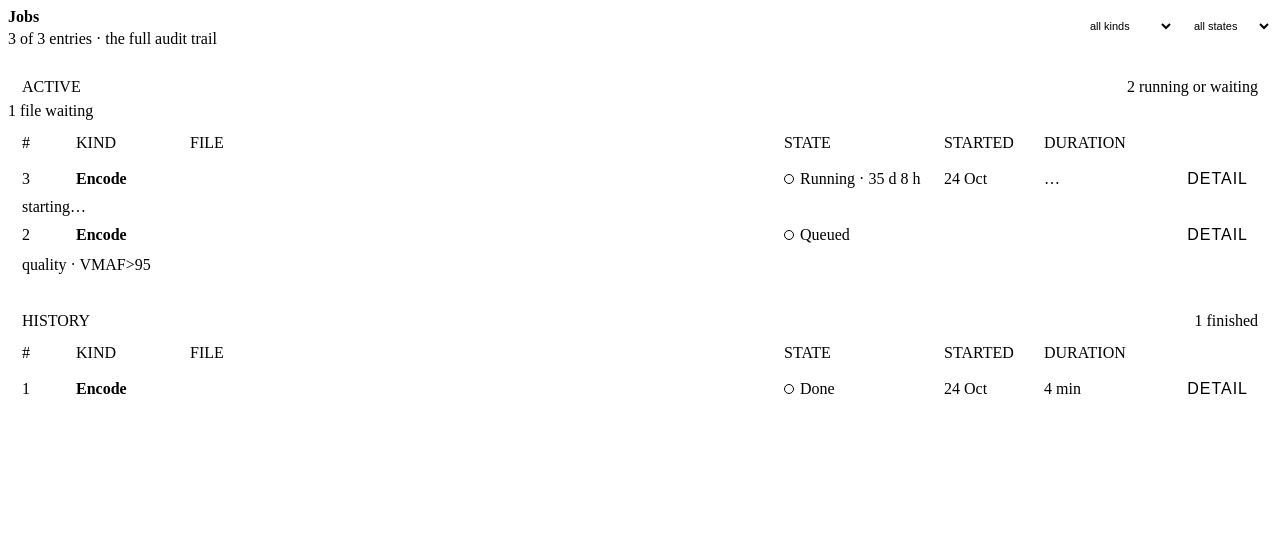
Test case: JobsPage render › a queued job shows no start time; running and done rows keep theirs (issue #603)
Click the button "DETAIL" in the row of "Queued": (1218, 235) [1177, 223, 1258, 247]
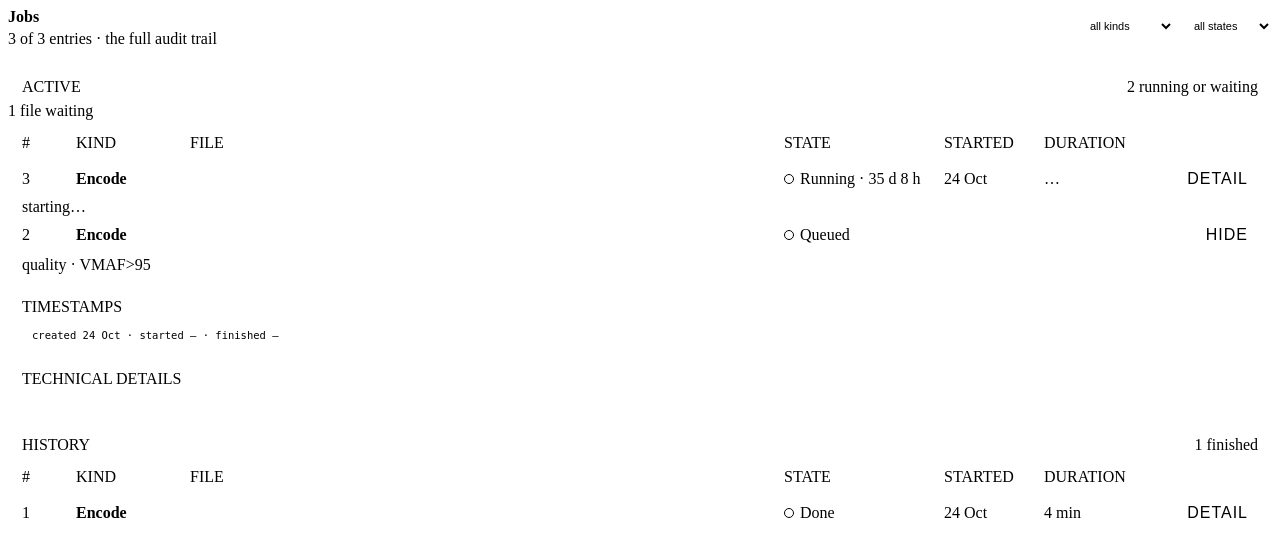
Now the element with class "detail" is shown, box [22, 298, 278, 387]
Now the text "created 24 Oct · started — · finished —" is shown, box [32, 329, 278, 341]
